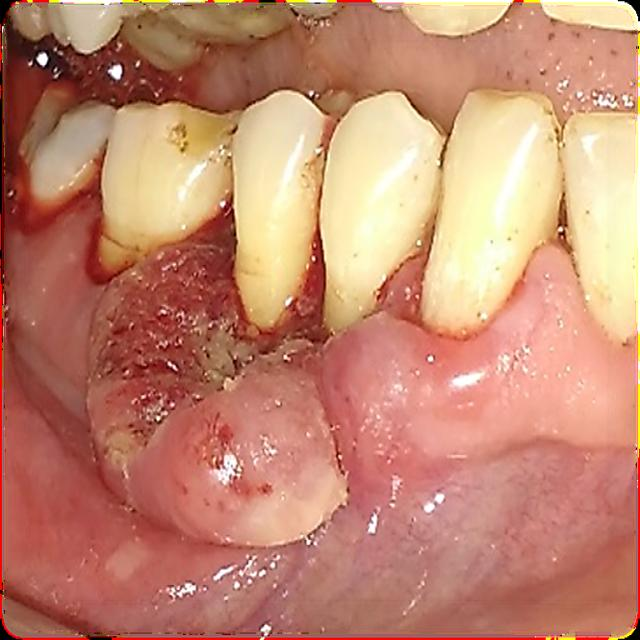cancer-detection: (75, 193, 360, 565)
processing_area: (11, 175, 632, 617)
